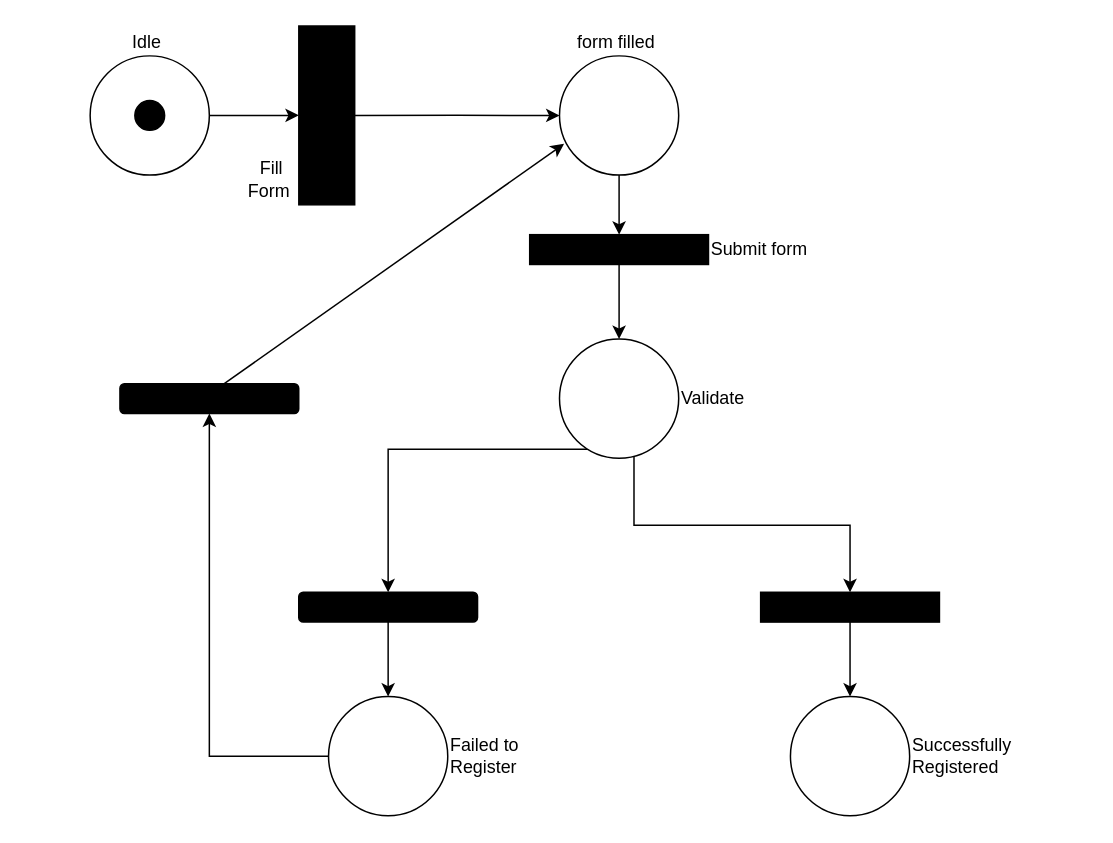
The diagram is 1113 pixels wide and 843 high, and some of its shapes have lost their labels. The box of each missing label's shape, as (x1, y1, x2, y2) in pixels:
Refill Form: (118, 382, 299, 413)
Validation Failure: (297, 591, 478, 622)
Validation Sucess: (759, 591, 939, 622)
